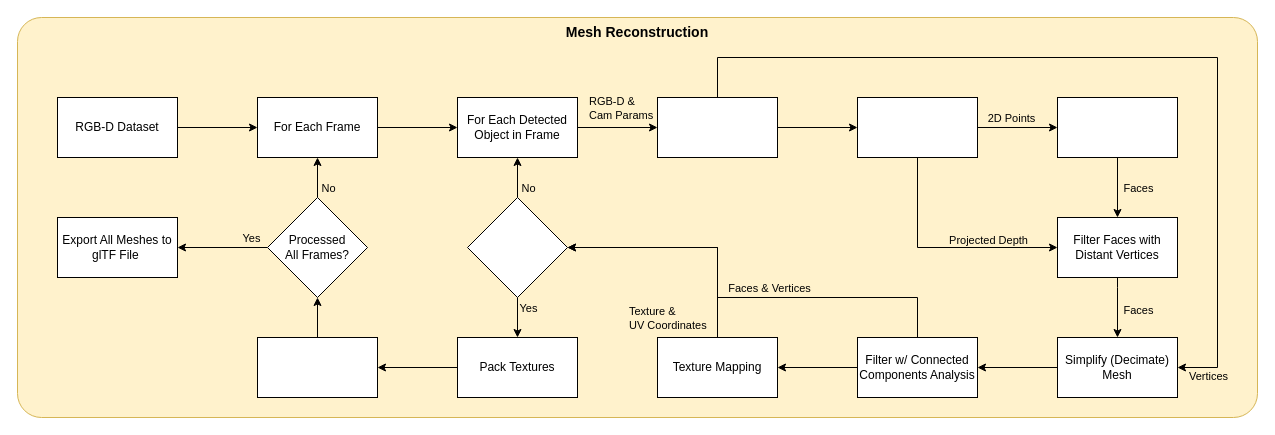
The diagram is 1275 pixels wide and 435 high, and some of its shapes have lost their labels. The centre of each missing label's shape, as x and y in pixels:
"Create Masked Point Cloud" goes at (717,127).
"Get 2D Points & Projected Depth" goes at (917,127).
"Merge Object Meshes into Single Mesh" goes at (317,367).
"Processed All Objects?" goes at (517,247).
"Triangulate Faces" goes at (1117,127).
